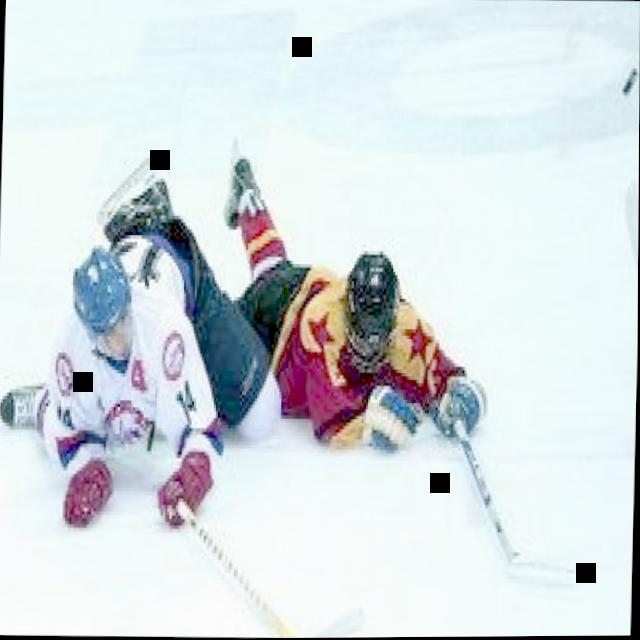Fall-Detected: (0, 188, 236, 547)
